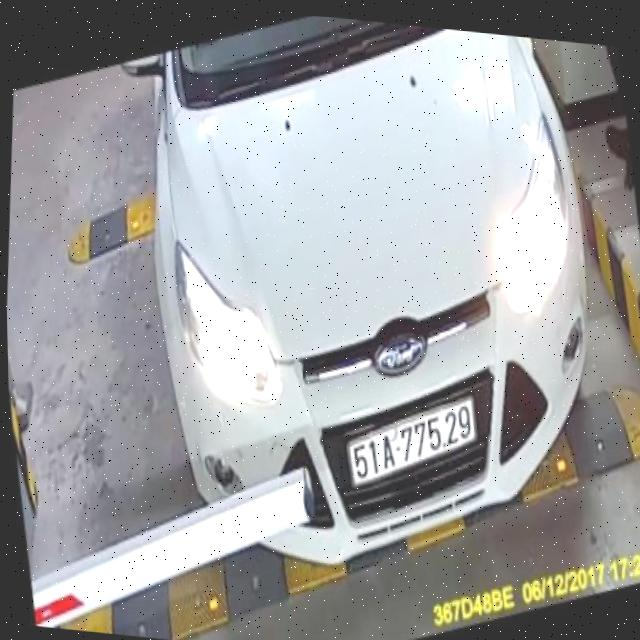car: (88, 5, 612, 598)
plate: (343, 381, 483, 504)
